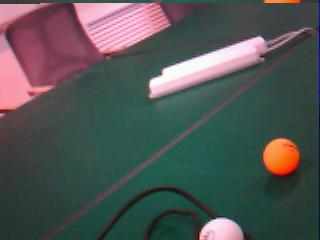oball: (264, 138, 301, 175)
